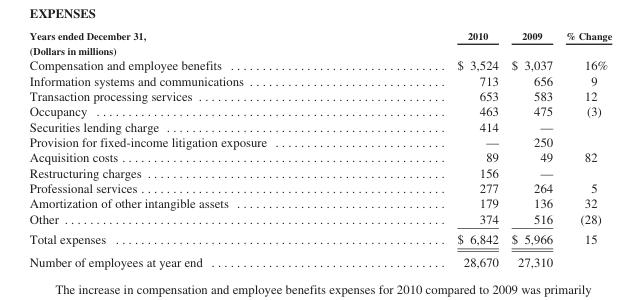table: (28, 29, 611, 268)
table column: (28, 29, 361, 268), (361, 29, 504, 268), (504, 29, 558, 268), (558, 29, 611, 268)
table column header: (28, 29, 611, 42)
table projected row header: (28, 42, 611, 57)
table row: (28, 228, 611, 250), (28, 210, 611, 228), (28, 250, 611, 268), (28, 72, 611, 88), (28, 118, 611, 134), (28, 164, 611, 180), (28, 42, 611, 57), (28, 57, 611, 72), (28, 88, 611, 103), (28, 103, 611, 118), (28, 134, 611, 149), (28, 149, 611, 164), (28, 180, 611, 195), (28, 195, 611, 210), (28, 29, 611, 42)
